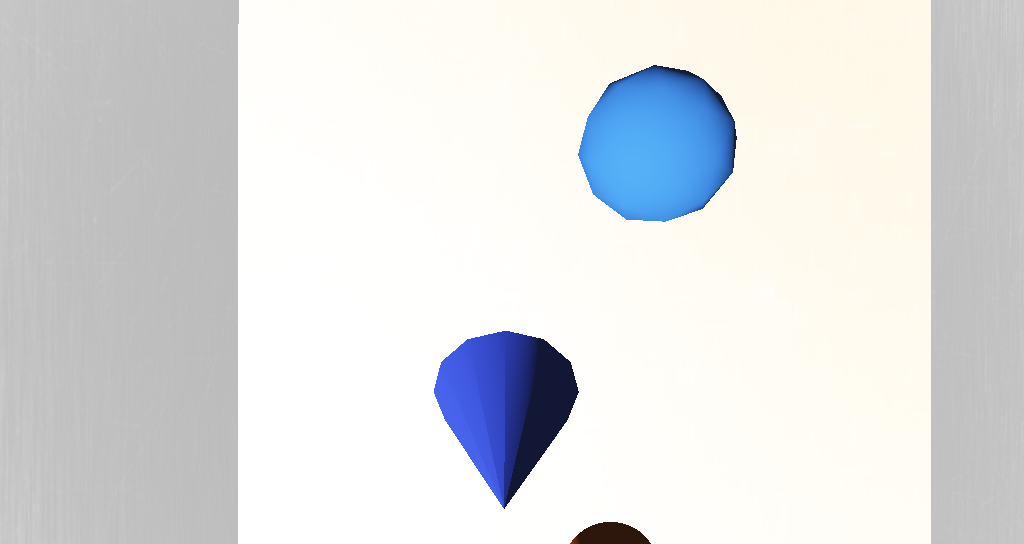cone: (495, 346, 542, 389)
cylinder: (441, 289, 502, 351)
sphere: (502, 212, 563, 255)
